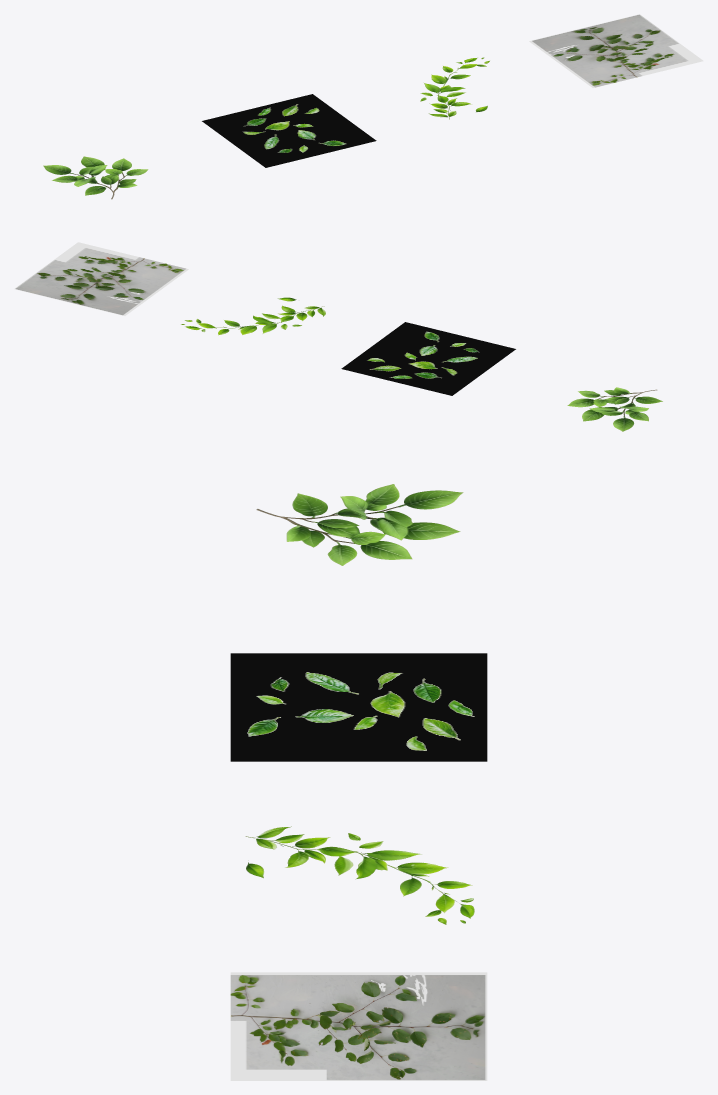
File: Dust for Vacumm Game.fbx
3 renders of one model, top to bottom at view 1: azimuth 30°, elevation 25°; view 2: azimuth 150°, elevation 25°; view 3: azimuth 270°, elevation 25°, orthographic. The views are drawn at different scales.
Parts seen in each view (by area): view 1: Leafs 2, Tree Branch, Leafs, Leafs 1; view 2: Leafs 2, Tree Branch, Leafs, Leafs 1; view 3: Leafs 2, Tree Branch, Leafs, Leafs 1.
Boxes of the visible parts, x1,y1,x2,y2 form: Leafs 2: (202,94,376,167); Tree Branch: (529,14,703,87); Leafs: (43,156,148,199); Leafs 1: (420,57,489,119); Leafs 2: (341,322,515,395); Tree Branch: (14,242,188,315); Leafs: (567,387,662,431); Leafs 1: (181,297,325,335); Leafs 2: (230,653,487,761); Tree Branch: (230,972,487,1080); Leafs: (256,484,463,565); Leafs 1: (245,826,474,924).
Size of the model in its own units: 448 by 1.3e-05 by 79.51.
